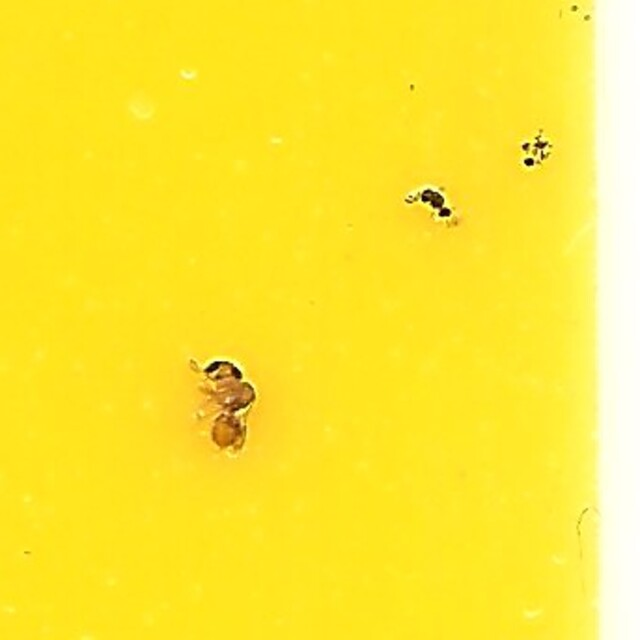Hymenoptera: (187, 350, 257, 452), (405, 188, 453, 224)
